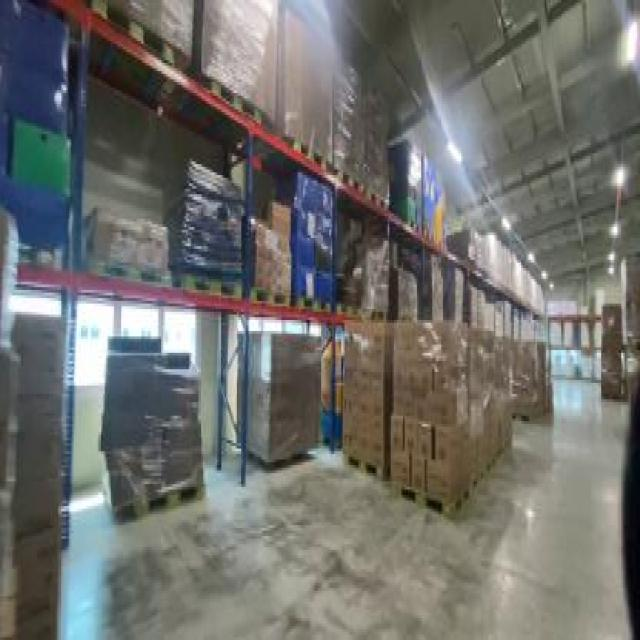box: (332, 320, 514, 503), (2, 208, 66, 634), (100, 336, 209, 514), (239, 326, 326, 468), (194, 3, 274, 131), (277, 8, 338, 175), (171, 167, 246, 301), (332, 49, 394, 205), (278, 172, 336, 314), (83, 208, 174, 290), (394, 112, 449, 244), (469, 227, 551, 312), (342, 213, 389, 320), (123, 3, 194, 68), (502, 336, 558, 418), (249, 202, 291, 306), (391, 249, 446, 328), (616, 252, 638, 399), (602, 304, 624, 399), (446, 263, 469, 328)
